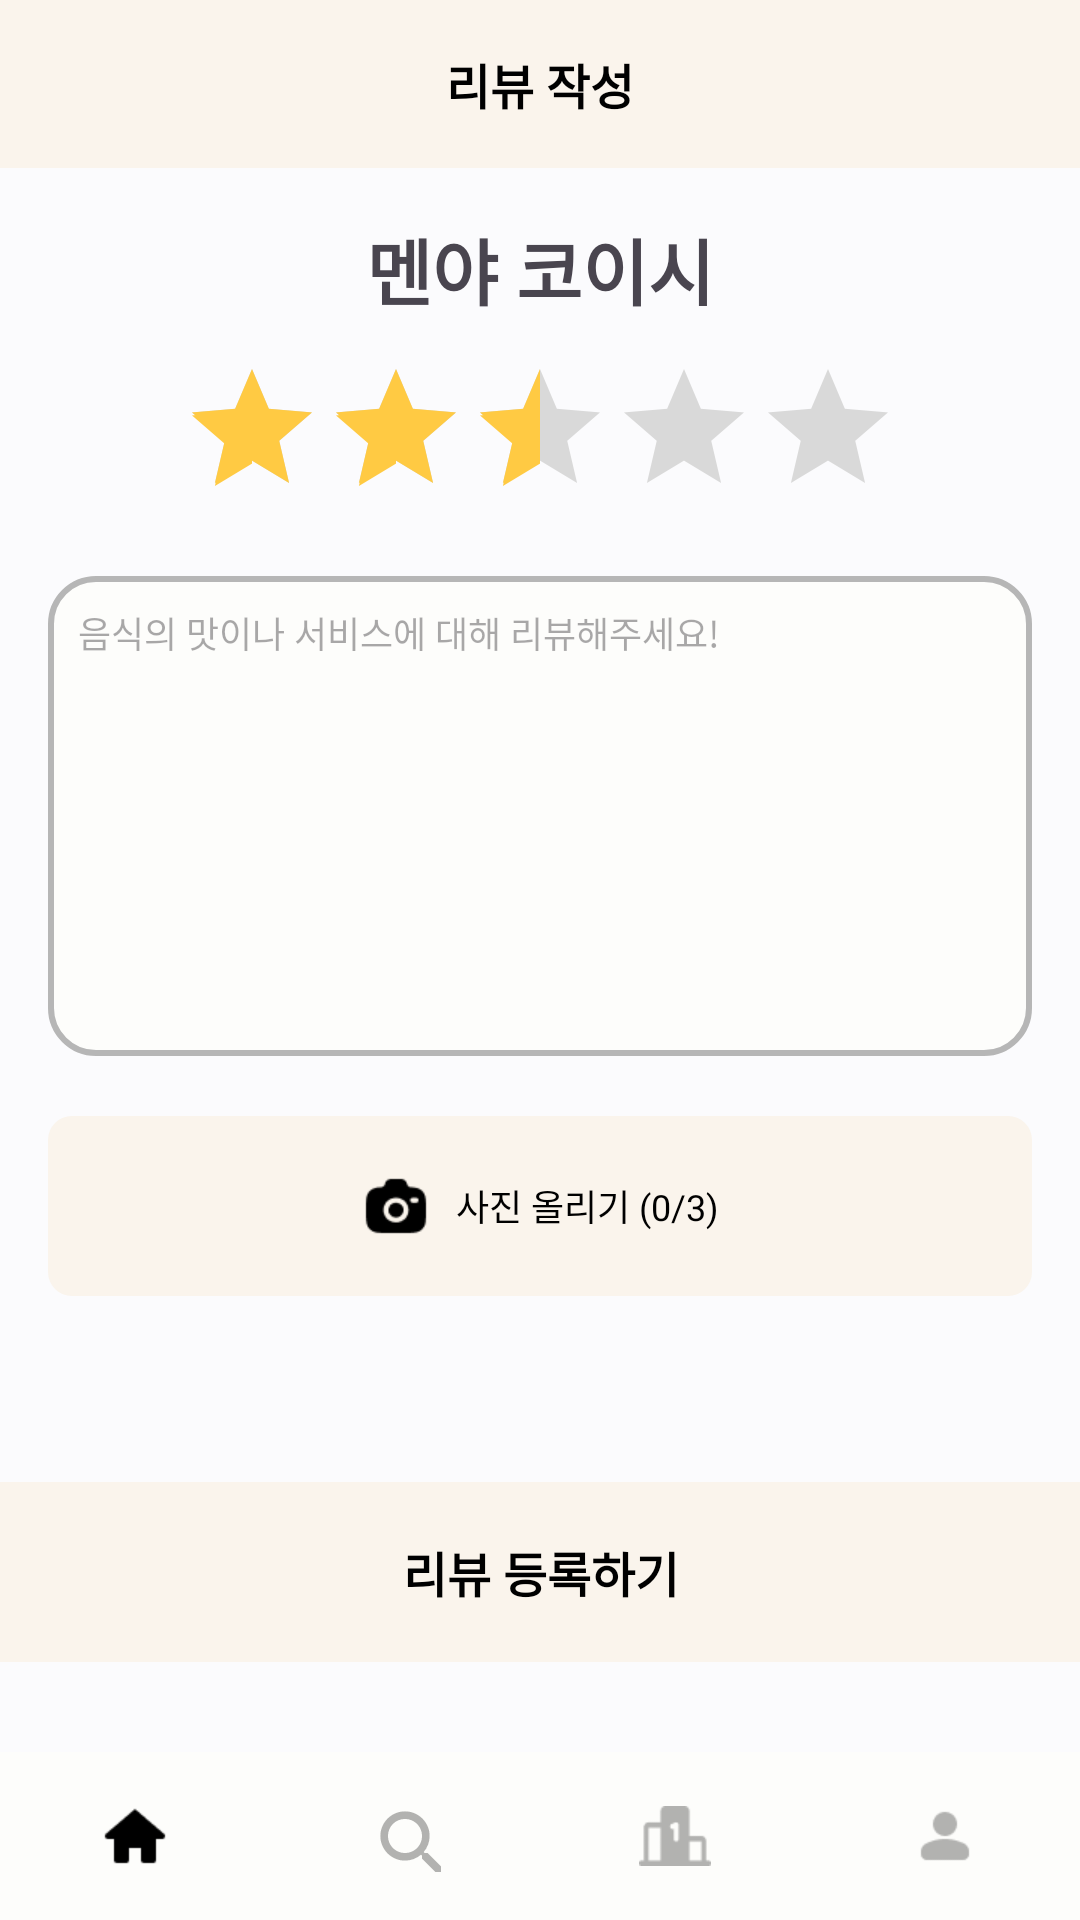

Point at icon controls on the screen. Image size 1080 × 1920, points as (x,y).
카메라 아이콘: (396,1206)
